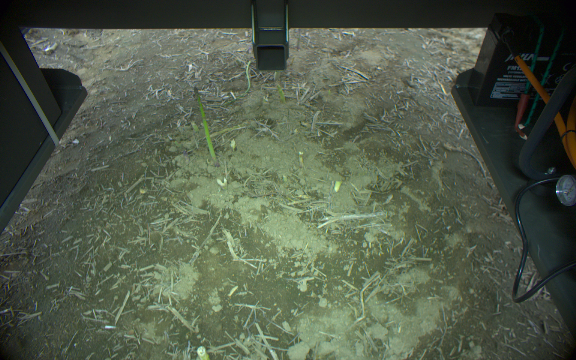aspa: (192, 85, 219, 167), (239, 58, 255, 97), (274, 80, 289, 111)
